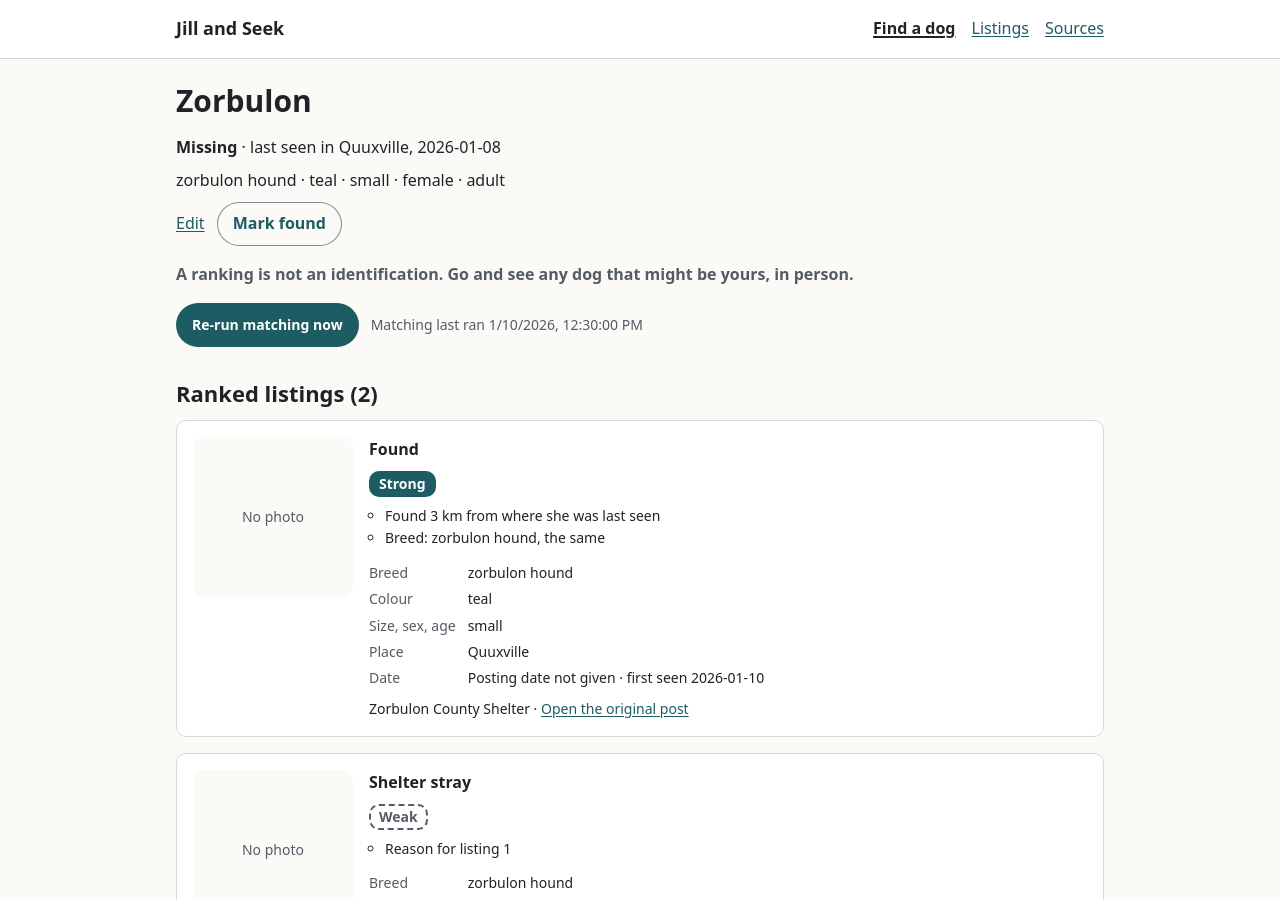
the dog page › re-runs matching from its button and shows when it last ran
Check: the text "Matching last ran 1/10/2026, 12:30:00 PM" is shown, box [371,314,643,337]
Step 1. Click the button "Re-run matching now" → coordinates (267, 325), box [176,303,359,347]
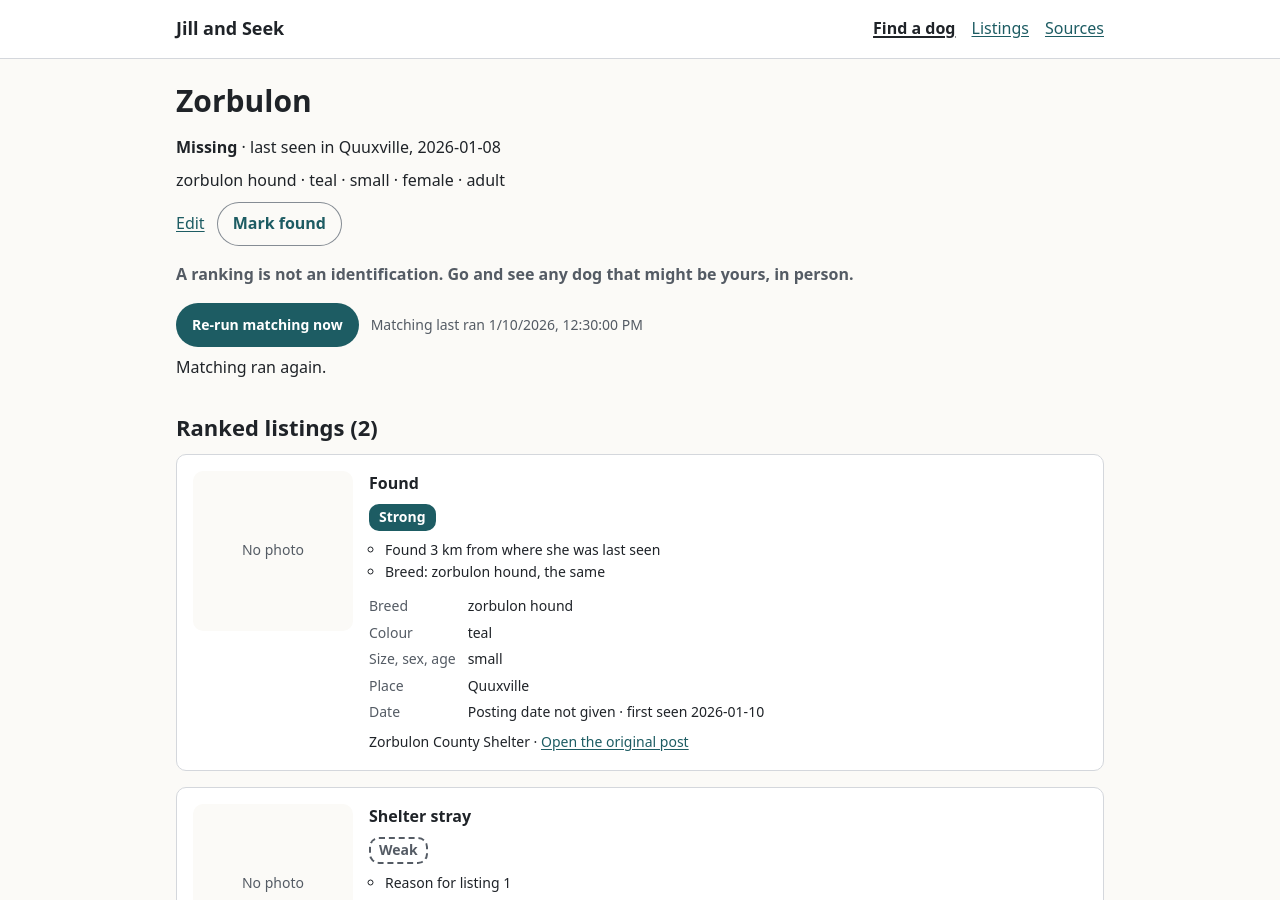
Check: the text "Matching ran again." is shown, box [176,356,326,378]
